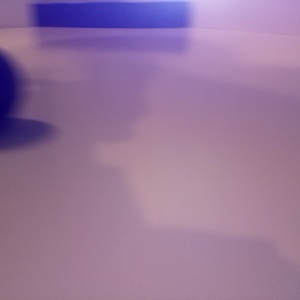dead_ball: (1, 47, 22, 125)
